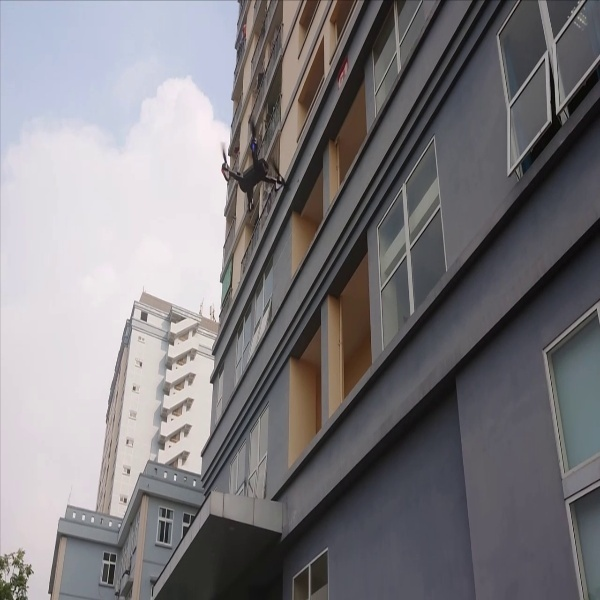drone: (207, 108, 299, 220)
